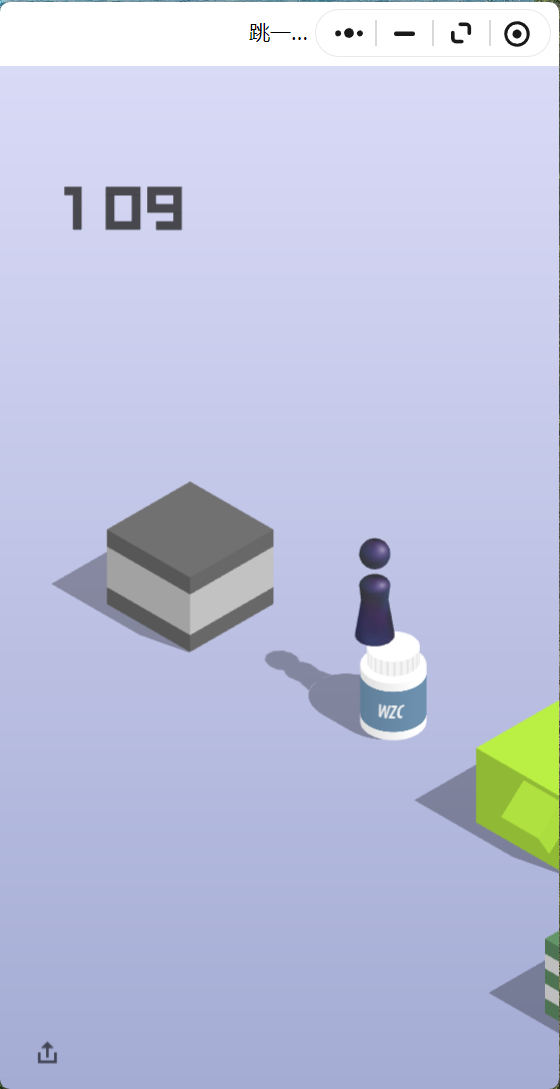piece: (359, 538, 390, 642)
target: (108, 482, 274, 576)
